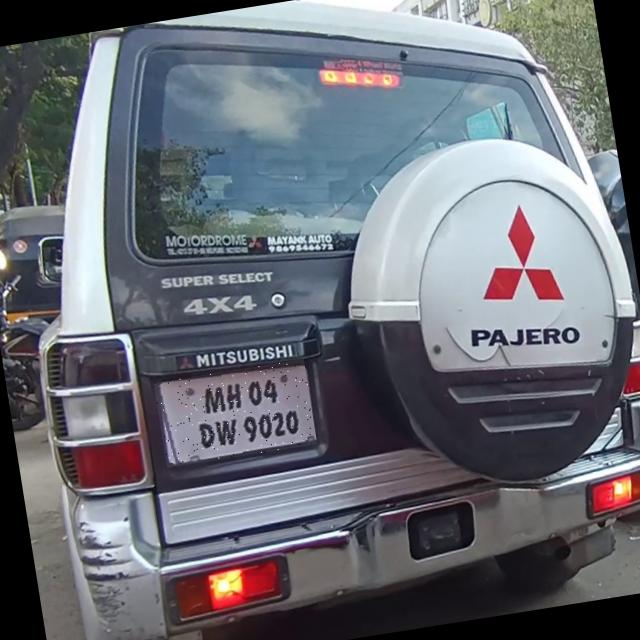Plate: (155, 360, 319, 469)
